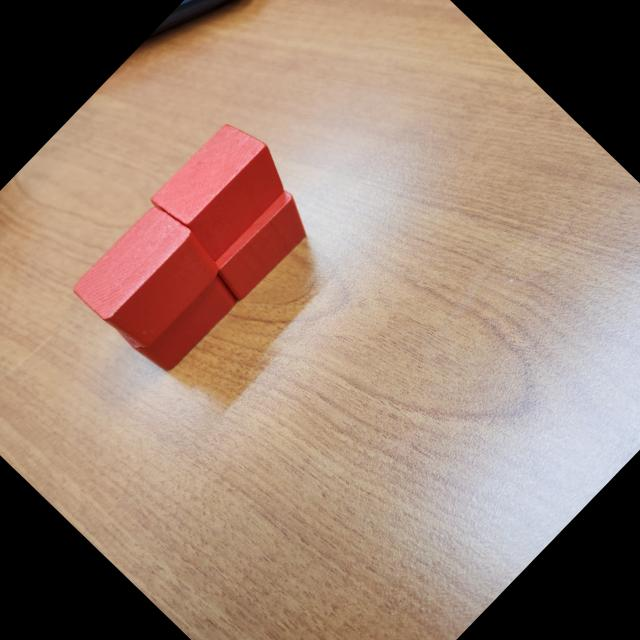red: (67, 195, 228, 358), (146, 112, 298, 266), (111, 248, 242, 380), (205, 188, 322, 306)
